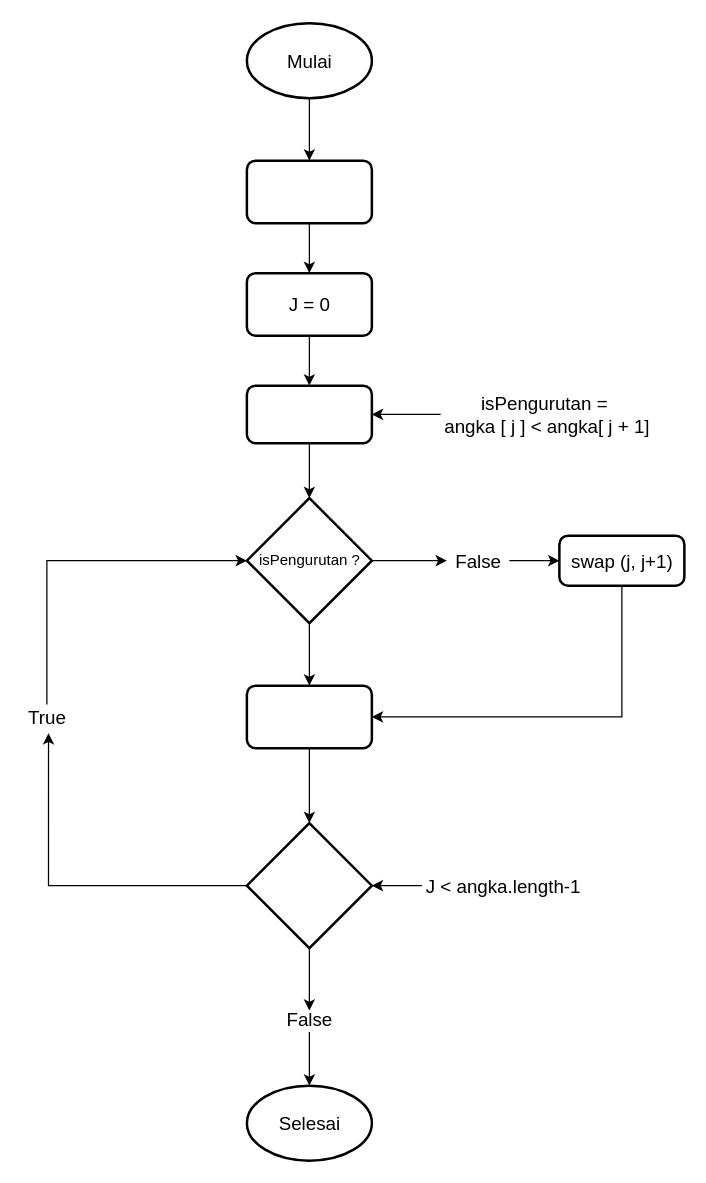
Image size: 706x1183. Some labels were removed from this diagram. The shapes that lost their labels are listed below. From the top down, each one's centre as x and y in pixels, then its label:
(308,191): Array
(308,716): j = j + 1
